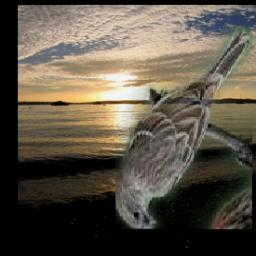Sparrow: (115, 26, 251, 229)
